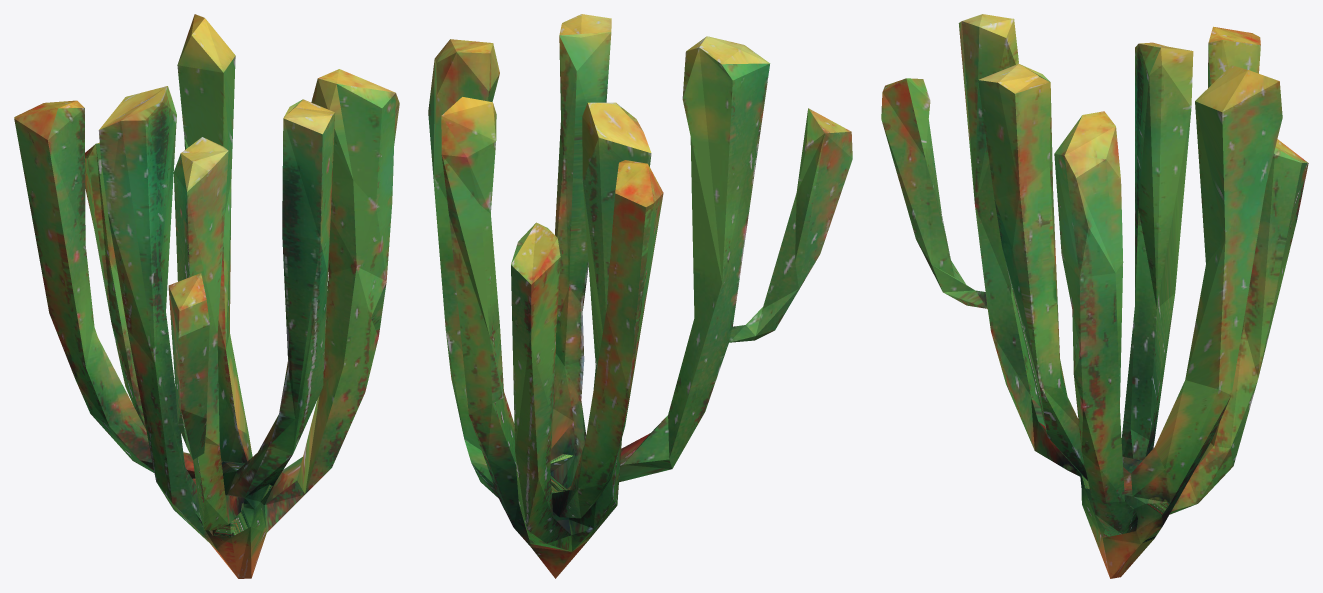
File: Demo_xianrenzhang02.FBX
3 renders of one model, left to right at view 1: azimuth 30°, elevation 25°; view 2: azimuth 150°, elevation 25°; view 3: azimuth 270°, elevation 25°, orthographic. The views are drawn at different scales.
Parts seen in each view (by area): view 1: Demo_xianrenzhang02; view 2: Demo_xianrenzhang02; view 3: Demo_xianrenzhang02.
Part boxes in pixels (x1=…): Demo_xianrenzhang02: x1=14, y1=14, x2=399, y2=578; Demo_xianrenzhang02: x1=428, y1=14, x2=852, y2=578; Demo_xianrenzhang02: x1=881, y1=14, x2=1308, y2=578.
Bounding box in the file's own units: 1.62 × 2.5 × 1.85.
